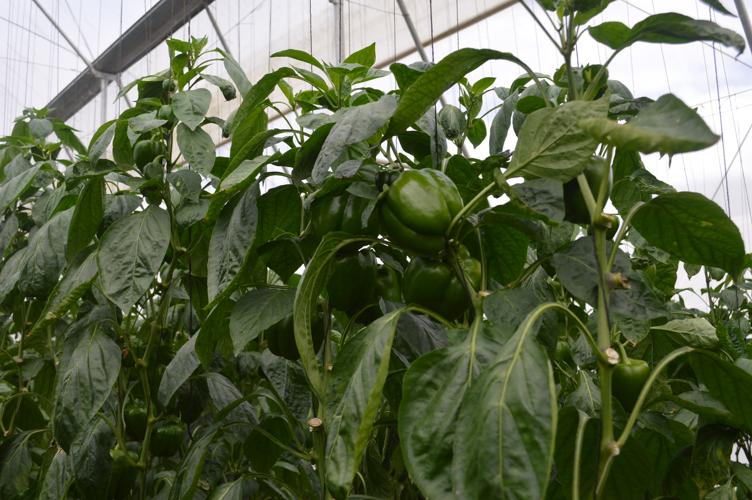BellPepper: (384, 167, 461, 254), (406, 257, 482, 321), (301, 188, 381, 247), (323, 254, 392, 318), (251, 299, 320, 358), (607, 353, 648, 408)
